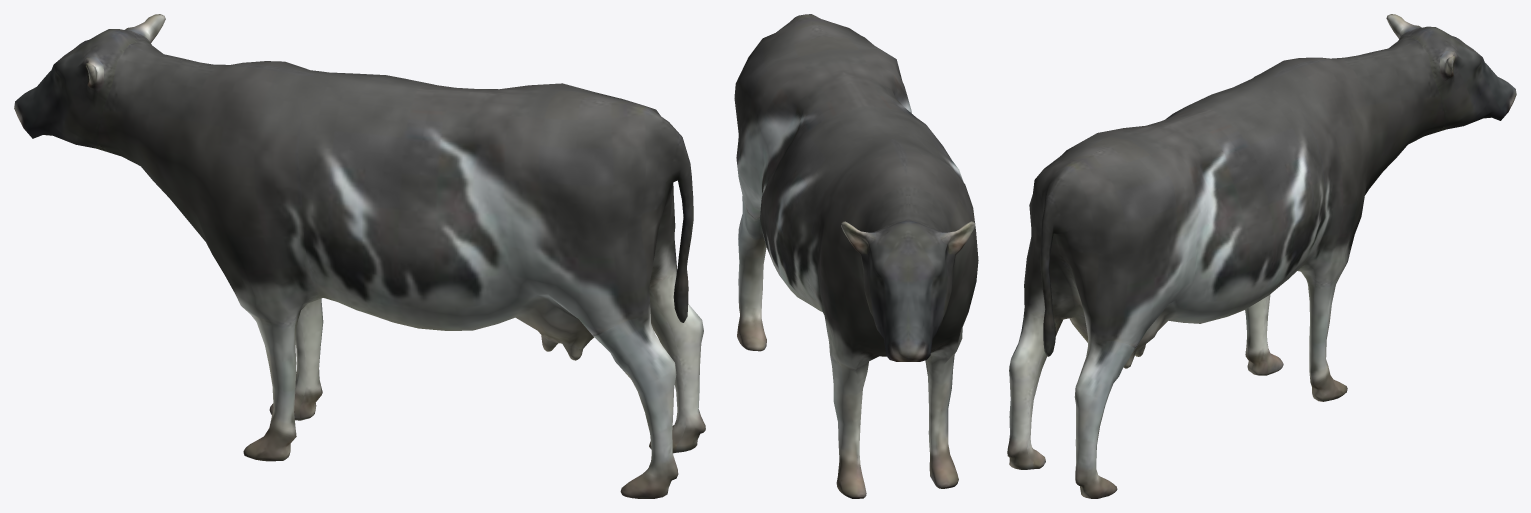
File: Cattle2.glb
The picture shows the model from 3 angles, left to right: view 1: azimuth 30°, elevation 25°; view 2: azimuth 150°, elevation 25°; view 3: azimuth 270°, elevation 25°; orthographic projection. The views are drawn at different scales.
Visible parts, largest first — view 1: Mesh1_001.003; view 2: Mesh1_001.003; view 3: Mesh1_001.003.
Part boxes in pixels (x1,y1,x2,y2): Mesh1_001.003: (14,14,705,498); Mesh1_001.003: (734,14,978,498); Mesh1_001.003: (1007,14,1516,498).
Size of the model in its own units: 3.67 by 2.93 by 4.26.
Materials: 1 (1 with a texture image).
